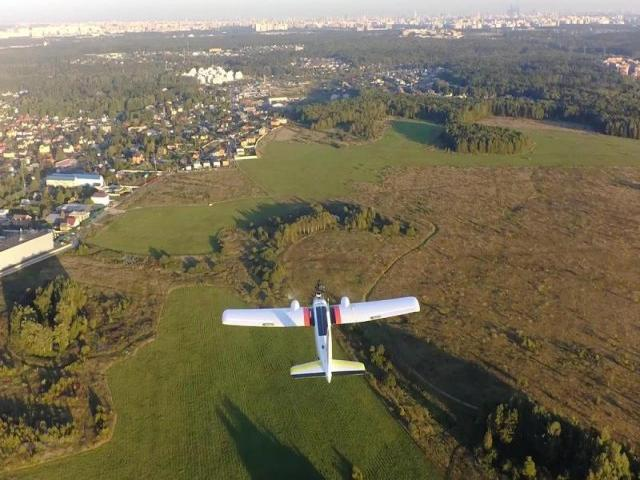hedef: (215, 271, 438, 392)
